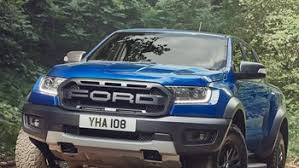Vehicle: (18, 23, 292, 167)
